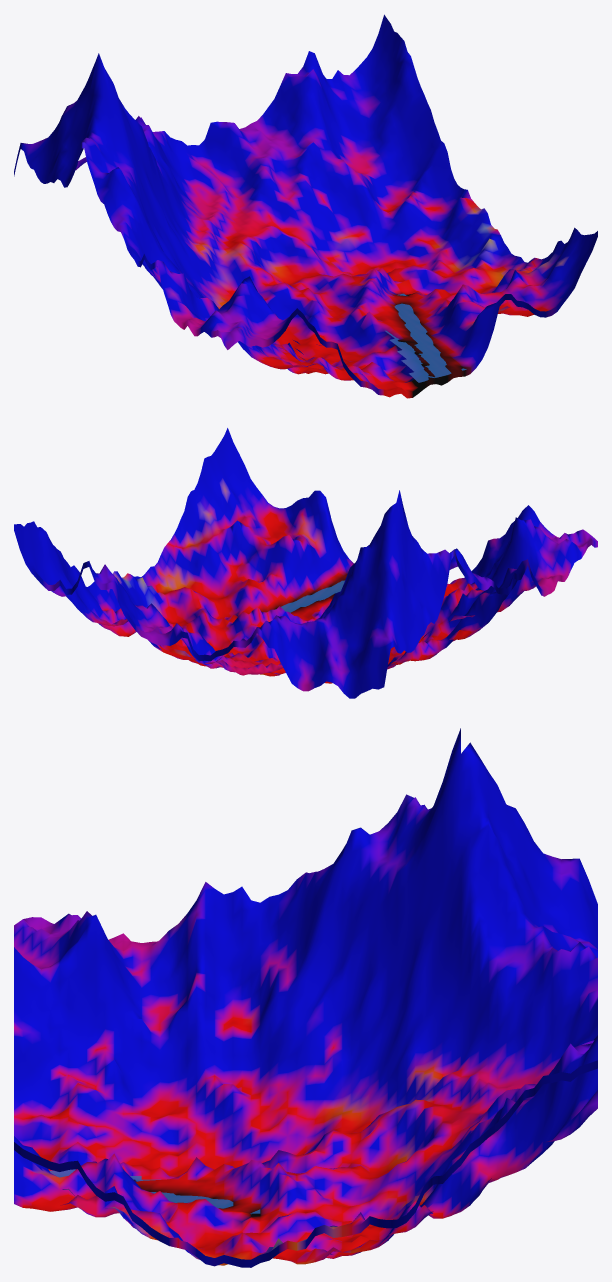
The model's file is chunk_5_0.glb.
The picture shows the model from 3 angles, top to bottom: view 1: azimuth 30°, elevation 25°; view 2: azimuth 150°, elevation 25°; view 3: azimuth 270°, elevation 25°; orthographic projection. The views are drawn at different scales.
Parts seen in each view (by area): view 1: LOD0, Water; view 2: LOD0, Water; view 3: LOD0, Water.
Boxes of the visible parts, x1,y1,x2,y2 form: LOD0: (14,14,597,398); Water: (385,293,466,382); LOD0: (14,428,597,698); Water: (267,580,344,612); LOD0: (14,728,597,1267); Water: (49,1169,260,1214).
Size of what is drawn, in the model's own units: 256 by 179 by 256.
